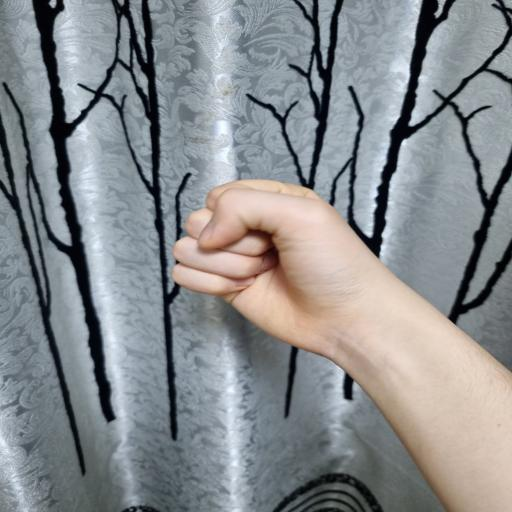Rock: (170, 178, 382, 356)
